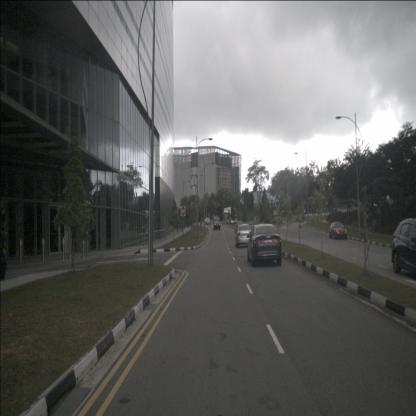vehicle-bus-rigid: (223, 207, 237, 224)
vehicle-car: (246, 224, 282, 266), (391, 218, 415, 275), (234, 224, 252, 248), (329, 223, 347, 240), (214, 221, 221, 230), (213, 216, 220, 224), (206, 218, 211, 225)
